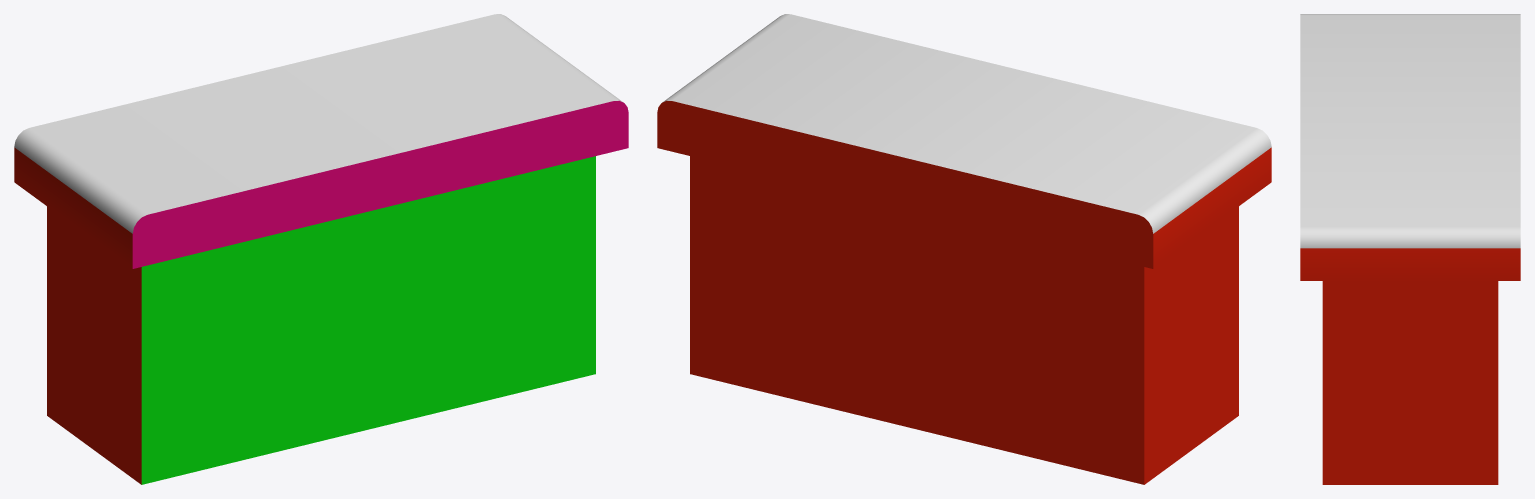
File: Table.fbx
3 views of the same model, side by side, from view 1: azimuth 30°, elevation 25°; view 2: azimuth 150°, elevation 25°; view 3: azimuth 270°, elevation 25° (orthographic). The views are drawn at different scales.
Visible parts, largest first — view 1: Cube.001; view 2: Cube.001; view 3: Cube.001.
Boxes of the visible parts, bbox=[...] form: Cube.001: bbox=[14, 14, 628, 484]; Cube.001: bbox=[657, 14, 1271, 484]; Cube.001: bbox=[1300, 14, 1520, 484].
Bounding box in the file's own units: 766 × 414 × 317.
